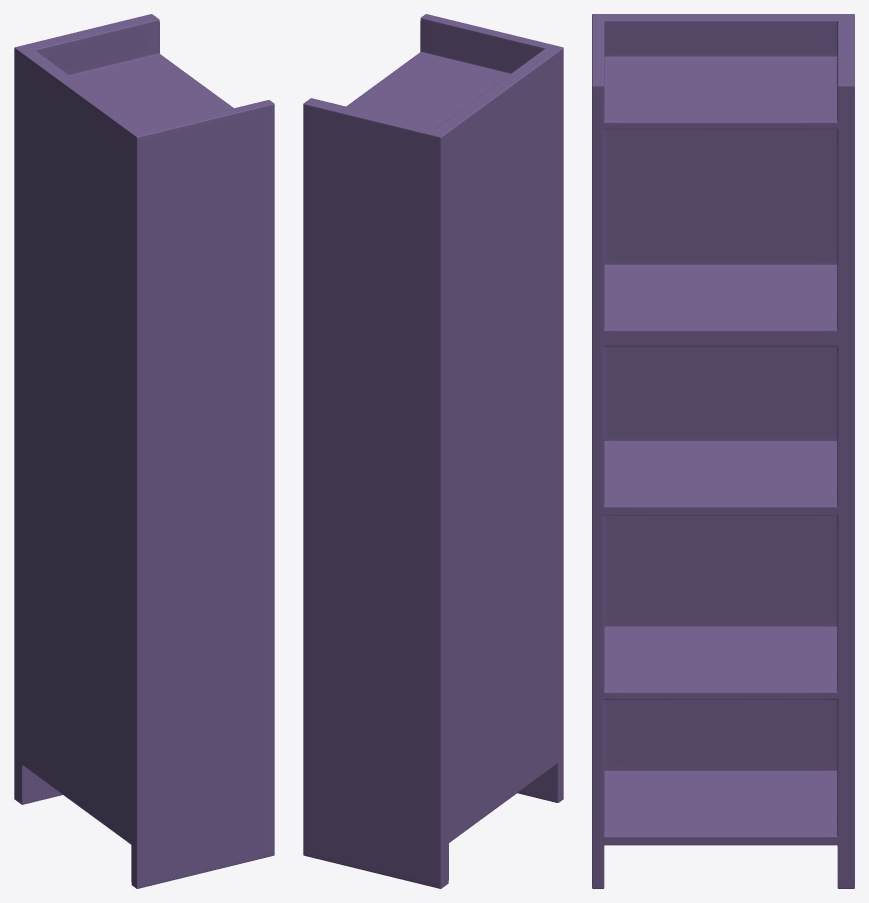
The model's file is bookshelf.fbx.
3 renders of one model, left to right at view 1: azimuth 30°, elevation 25°; view 2: azimuth 150°, elevation 25°; view 3: azimuth 270°, elevation 25°, orthographic. The views are drawn at different scales.
Visible parts, largest first — view 1: bookshelf; view 2: bookshelf; view 3: bookshelf.
Boxes of the visible parts, x1=… form: bookshelf: x1=14, y1=14, x2=274, y2=888; bookshelf: x1=303, y1=14, x2=563, y2=888; bookshelf: x1=592, y1=14, x2=854, y2=888.
Bounding box in the file's own units: 6.73 × 35.02 × 10.39.
